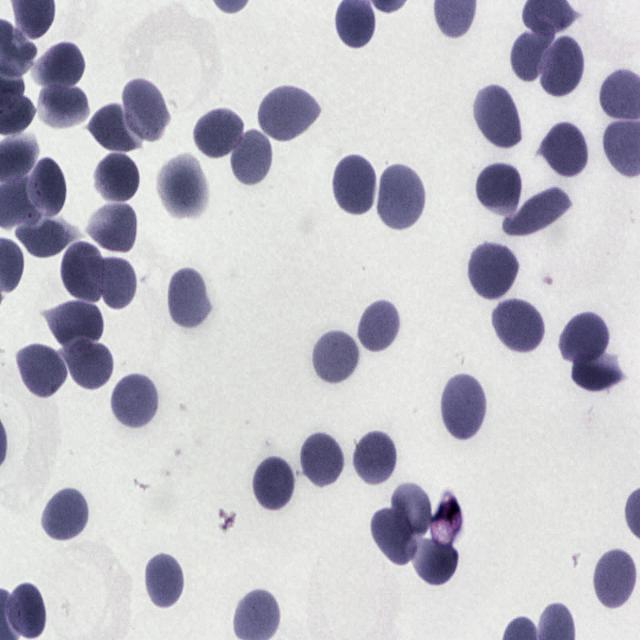red blood cell: (376, 163, 428, 234), (440, 370, 490, 442), (464, 240, 520, 301), (504, 187, 572, 236), (492, 298, 548, 357), (258, 86, 319, 140), (158, 154, 209, 217), (473, 85, 522, 149), (509, 18, 555, 82), (561, 307, 609, 368), (228, 127, 275, 189), (61, 240, 108, 302), (356, 296, 404, 356), (168, 266, 214, 328), (590, 549, 636, 611), (62, 336, 115, 389), (122, 79, 168, 140), (474, 160, 526, 213), (16, 344, 67, 398), (538, 122, 588, 177), (111, 373, 159, 430), (252, 454, 298, 513), (389, 482, 432, 544), (86, 202, 139, 252), (24, 156, 66, 219), (47, 301, 104, 347), (371, 506, 416, 564), (34, 40, 87, 89), (541, 35, 584, 95), (86, 105, 140, 152), (332, 156, 376, 213), (313, 331, 360, 384), (144, 551, 186, 610), (37, 83, 90, 129), (4, 584, 48, 639), (194, 110, 244, 158), (16, 219, 76, 259), (230, 592, 280, 640), (572, 349, 626, 393), (42, 490, 89, 540), (93, 150, 140, 200), (96, 253, 136, 311), (299, 436, 344, 486), (354, 433, 397, 483), (414, 539, 458, 585)
